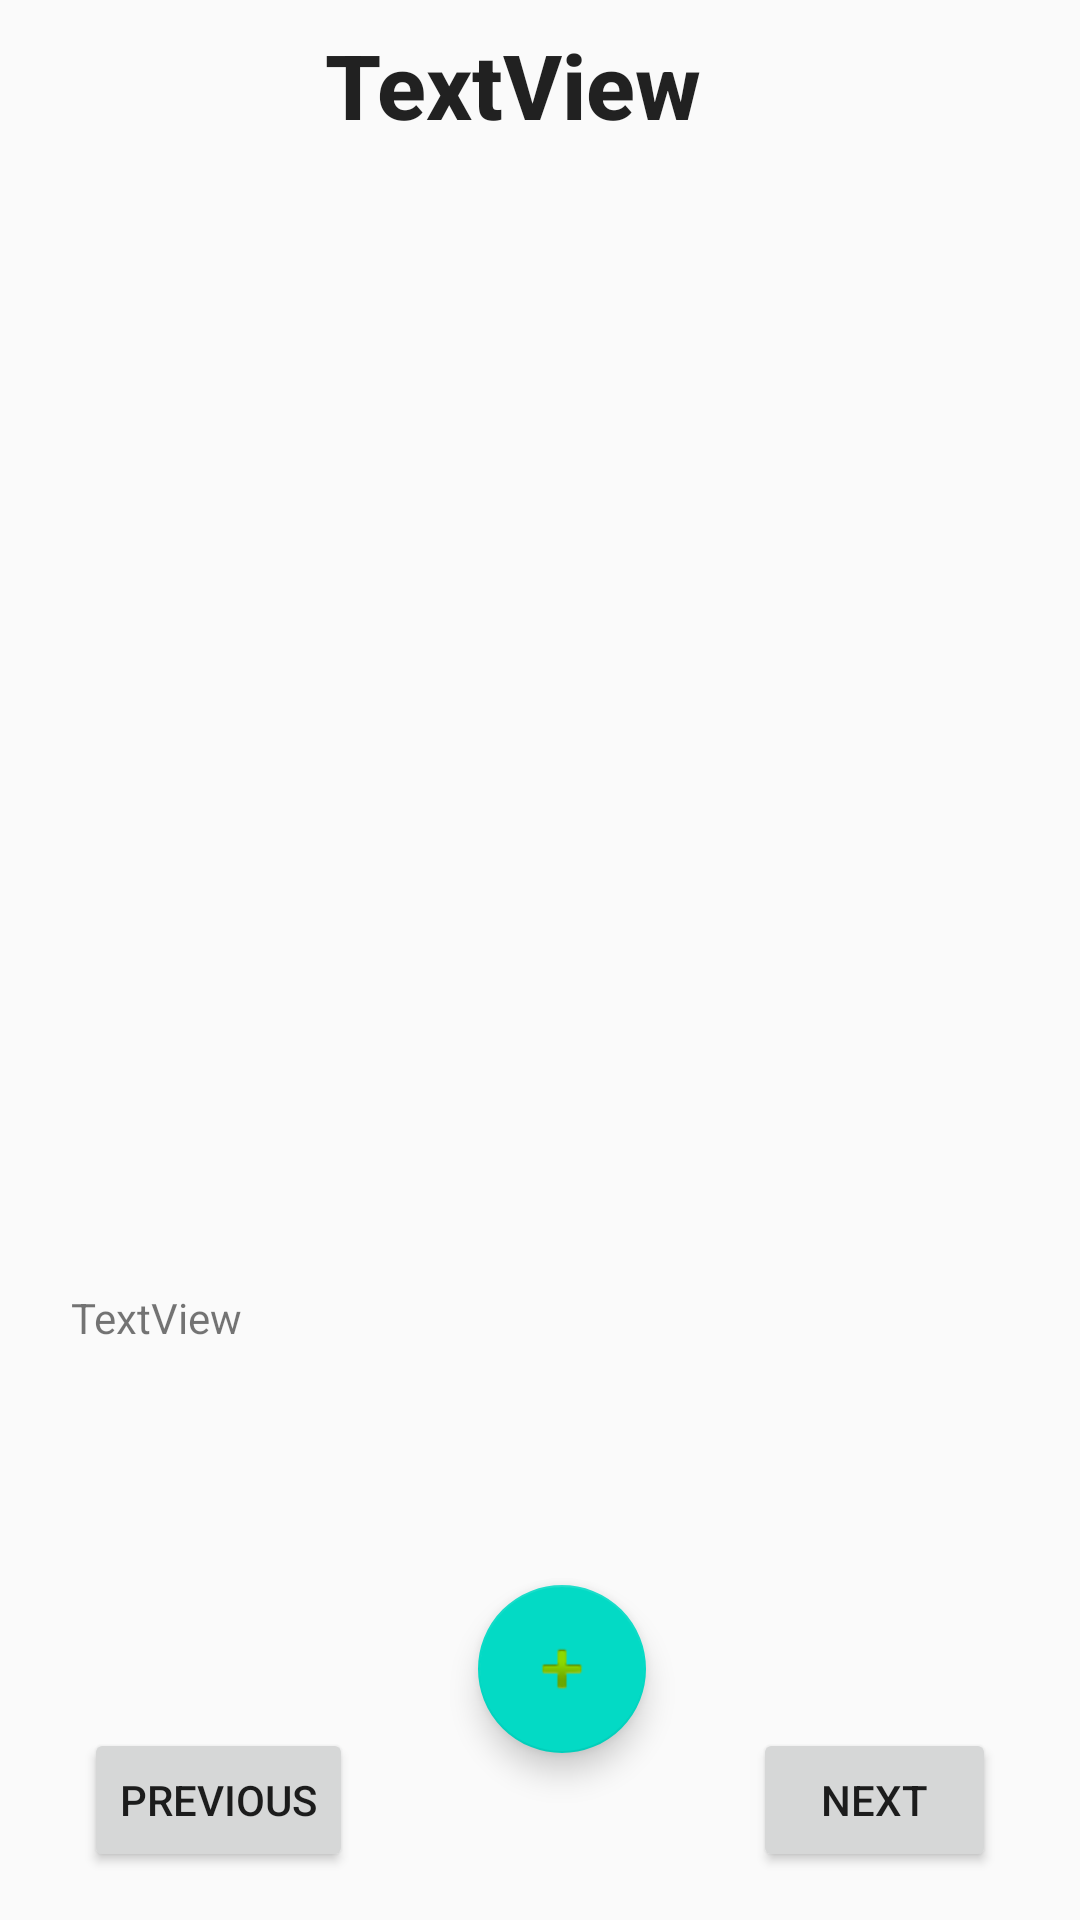

Icon click points for this 1080w x 1920h phone screenshot, format (x,y):
add: (562,1669)
